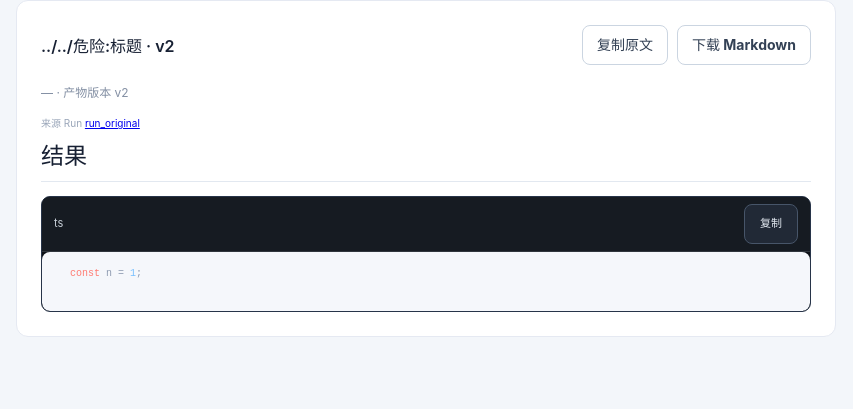
Test: copies the exact original text and reports clipboard failures
Click the button "复制原文": coordinates (625, 45) [582,25,668,65]
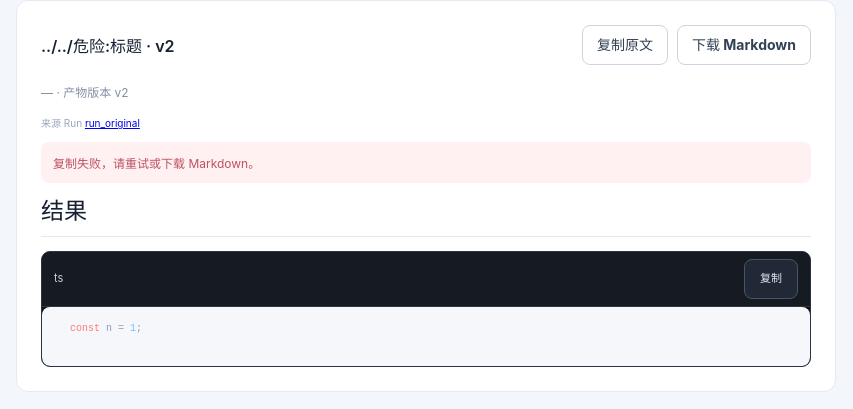
Expected: the text "原文已复制" is not shown
Expected: the message "复制失败，请重试或下载 Markdown。" is shown, [41,142,811,183]
Click the button "复制原文": coordinates (625, 45) [582,25,668,65]
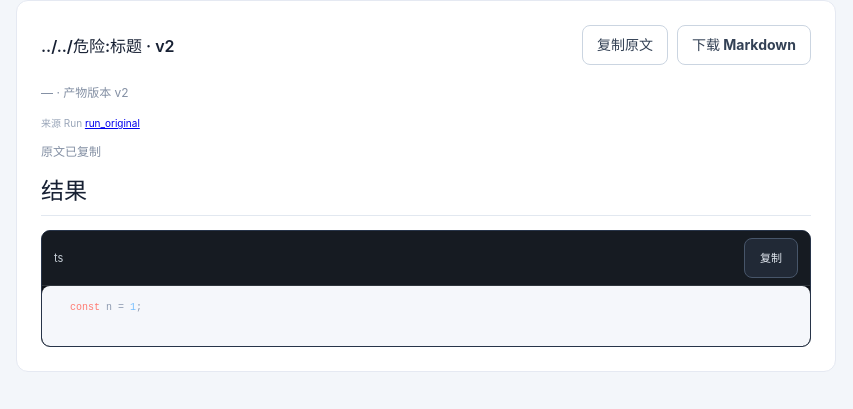
Expected: the message "原文已复制" is shown, [41,144,101,159]
